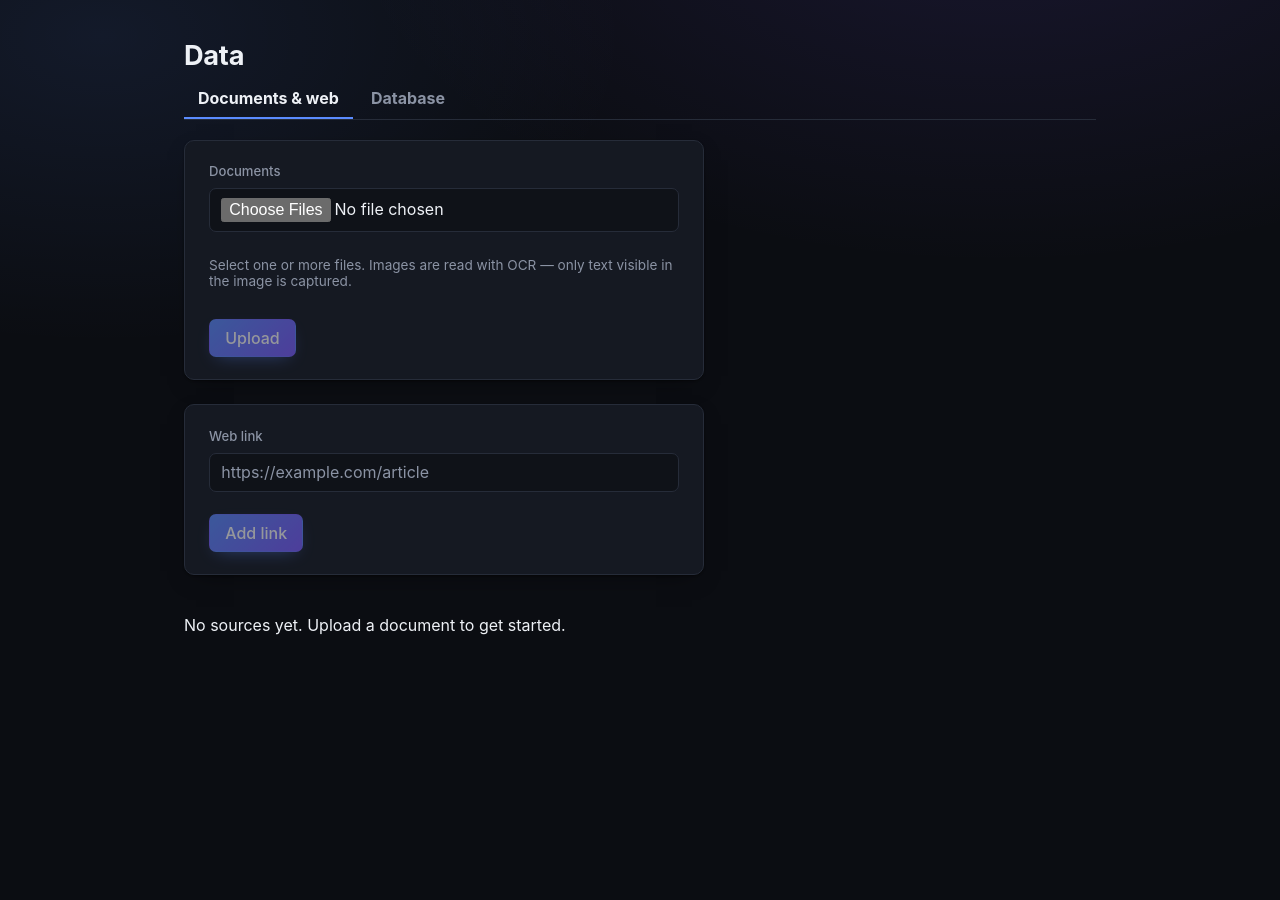
it: AdminDataPage › switches tabs on click
Expected: the text "No sources yet. Upload a document to get started." is shown, x1=184 y1=615 x2=566 y2=635
Click the tab "Database" at (408, 99), box x1=357 y1=79 x2=459 y2=119
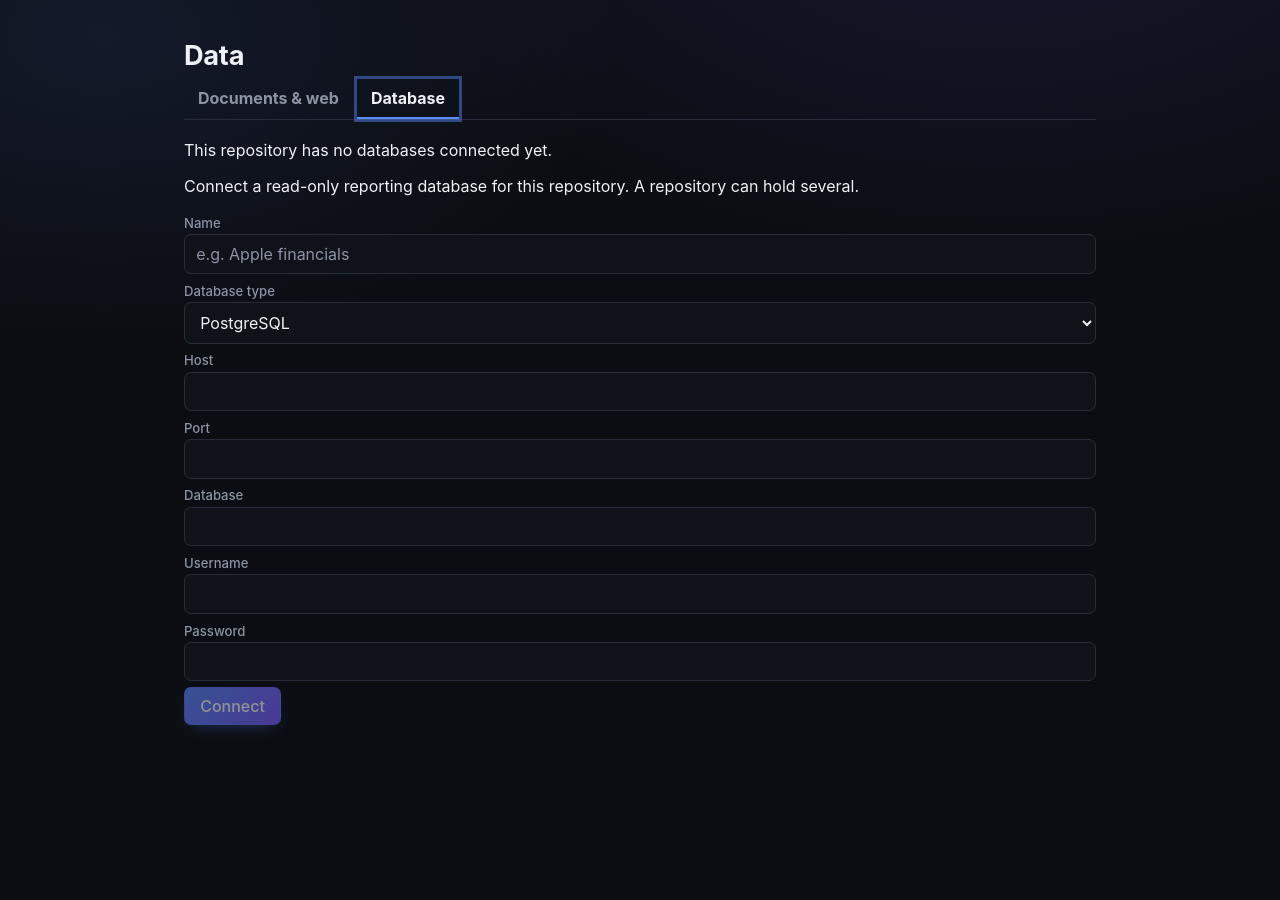
Expected: the field labelled "Host" is shown, x1=184 y1=372 x2=1096 y2=411
